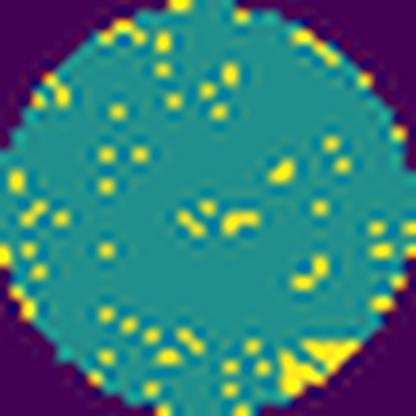Edge-Loc: (281, 331, 365, 401)
